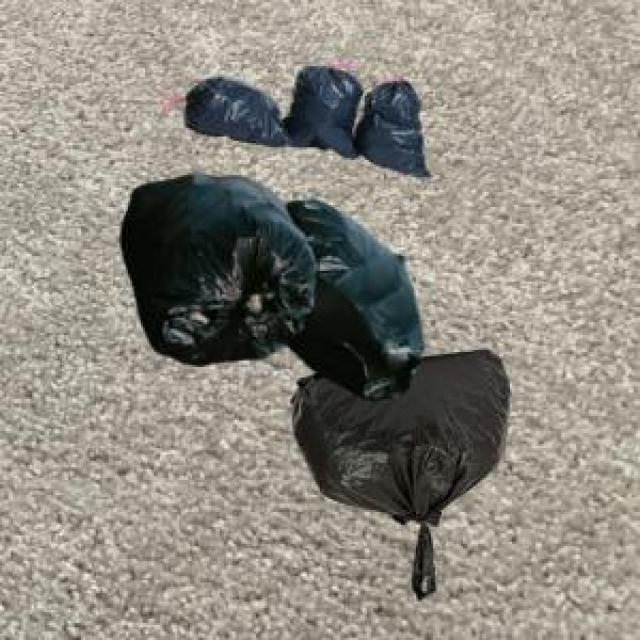garbage_bag: (286, 346, 512, 600), (115, 168, 317, 366)
